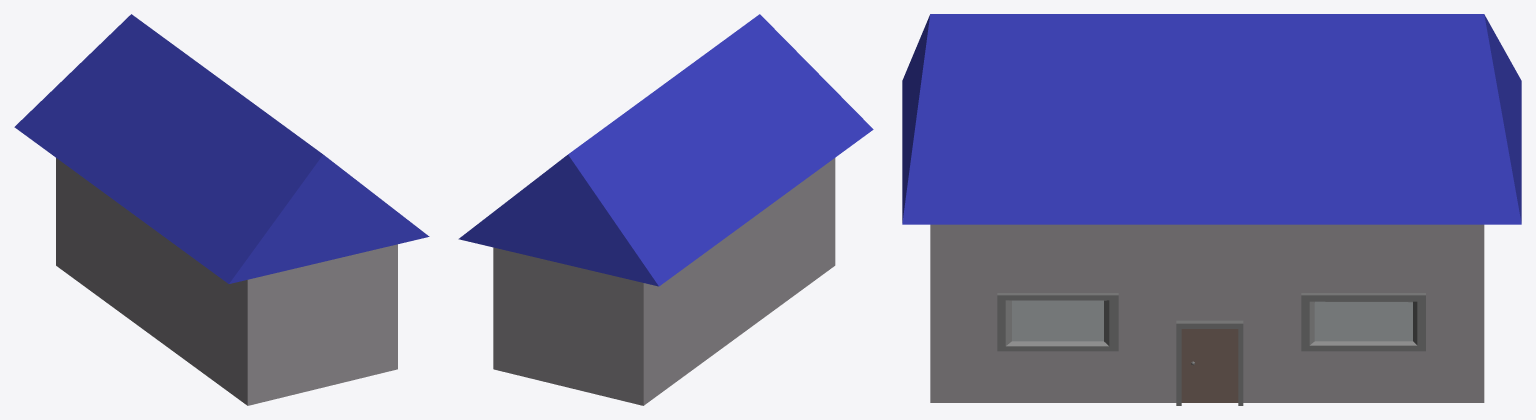
The model's file is Small 3.fbx.
The picture shows the model from 3 angles, left to right: view 1: azimuth 30°, elevation 25°; view 2: azimuth 150°, elevation 25°; view 3: azimuth 270°, elevation 25°; orthographic projection. The views are drawn at different scales.
Visible parts, largest first — view 1: pCube2; view 2: pCube2; view 3: pCube2.
Part boxes in pixels (x1,y1,x2,y2): pCube2: (14,14,429,405); pCube2: (458,14,873,405); pCube2: (902,14,1521,405).
Size of the model in its own units: 7.99 by 8.86 by 14.79.
